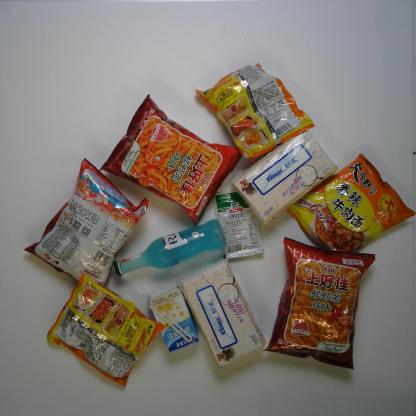Alcohol: (110, 216, 230, 278)
Instant Noodles: (283, 151, 416, 266), (43, 270, 168, 390), (190, 60, 316, 166)
Milk: (145, 281, 203, 354)
Puffed Food: (95, 92, 247, 228), (23, 154, 149, 294), (260, 234, 379, 374)
Seasoner: (208, 184, 266, 263)
Tissue: (229, 126, 341, 229), (175, 257, 269, 371)
